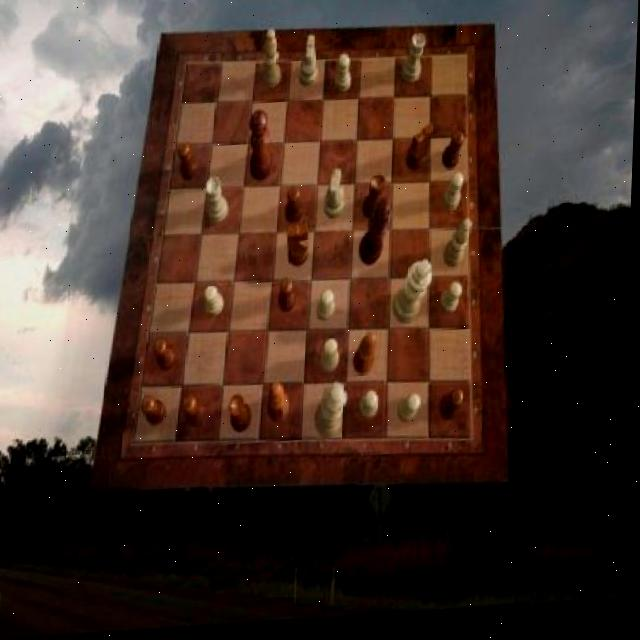bishop: (354, 336, 379, 380), (271, 387, 293, 428)
black-bishop: (359, 204, 394, 273)
black-king: (406, 129, 435, 177), (288, 228, 312, 272)
black-knight: (442, 137, 466, 176), (143, 398, 170, 430), (178, 145, 200, 184), (155, 339, 179, 374), (441, 395, 466, 428), (184, 398, 208, 431), (286, 192, 305, 229), (281, 282, 299, 317)
black-pawn: (248, 113, 276, 187)
black-queen: (362, 178, 387, 224), (230, 397, 254, 437)
black-rook: (444, 224, 472, 275), (262, 33, 283, 94)
white-bishop: (395, 264, 434, 330)
white-king: (299, 40, 320, 93), (326, 173, 347, 223)
white-knight: (444, 180, 465, 219), (441, 289, 465, 323), (323, 343, 343, 379), (204, 287, 225, 321), (399, 400, 423, 429), (335, 58, 352, 98), (318, 295, 338, 327), (361, 397, 382, 425)
white-pawn: (316, 386, 350, 442)
white-queen: (401, 39, 426, 89), (206, 180, 231, 227)
